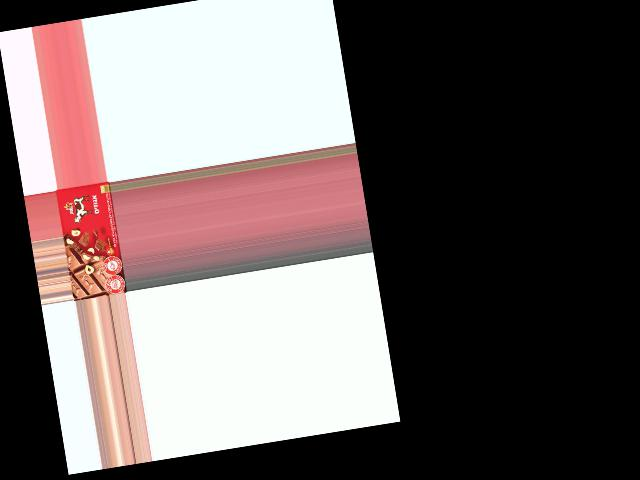chocolate: (56, 181, 125, 300)
